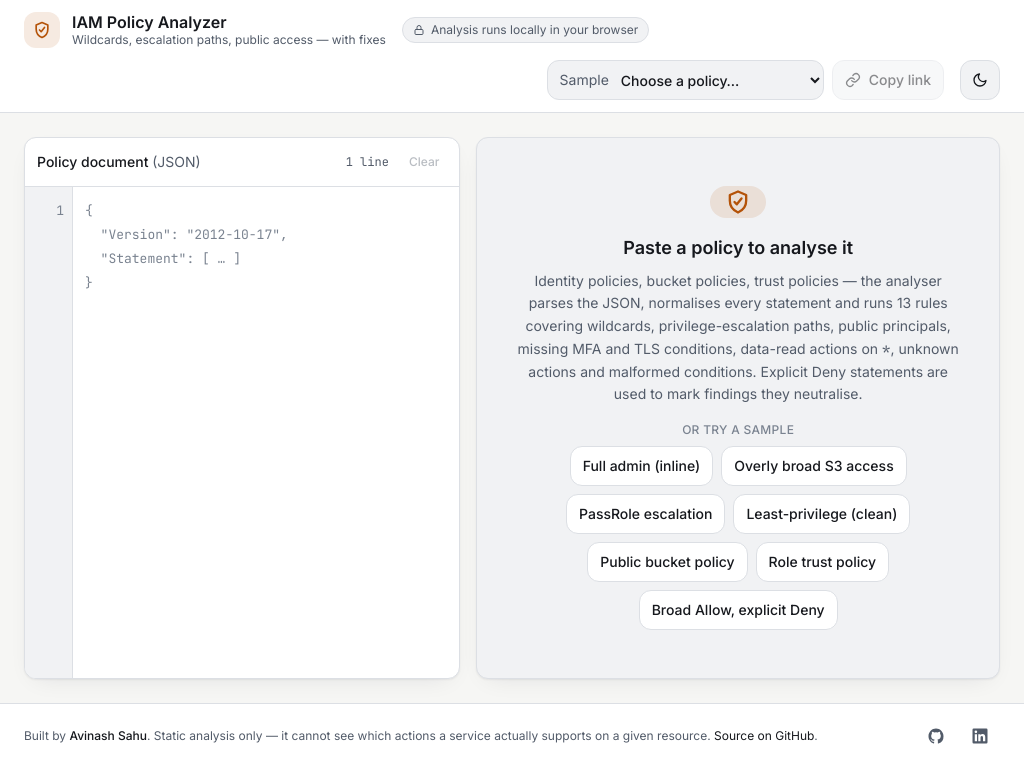
Scenario: App › loads a sample, lists findings grouped by severity and highlights the statement on click
Click the button "PassRole escalation" at (646, 514), box [566,494,725,534]
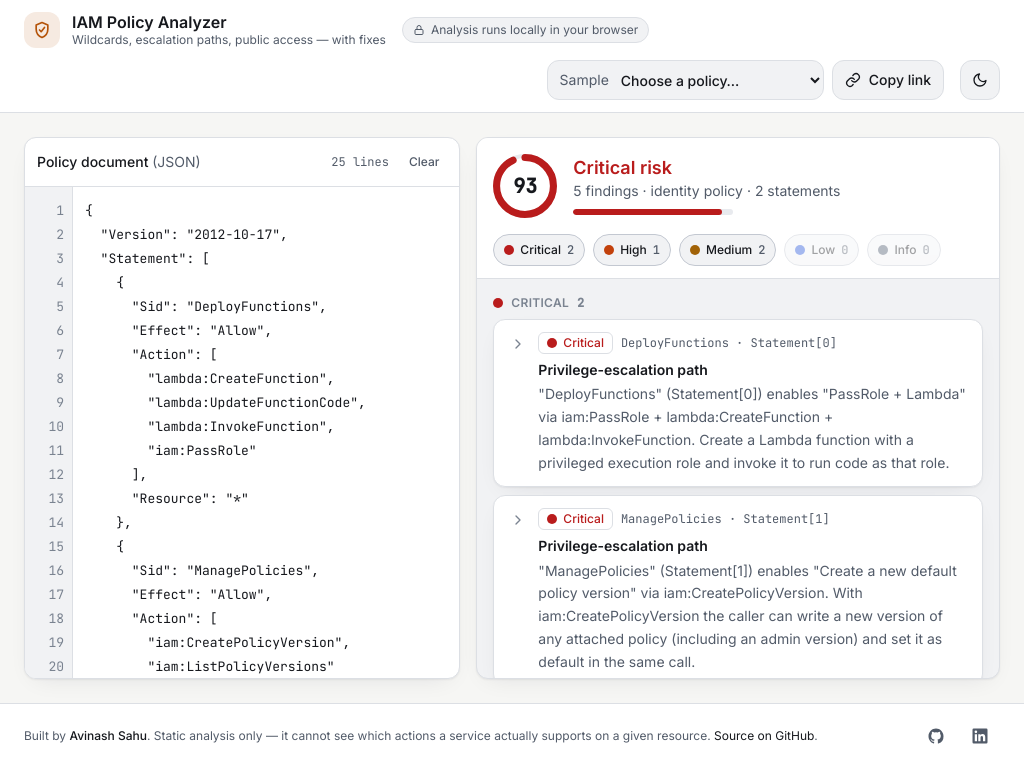
Expected: the picture "93" is shown, [493,154,557,218]
Click the button "Privilege-escalation path" at (738, 403), box [494,320,982,486]
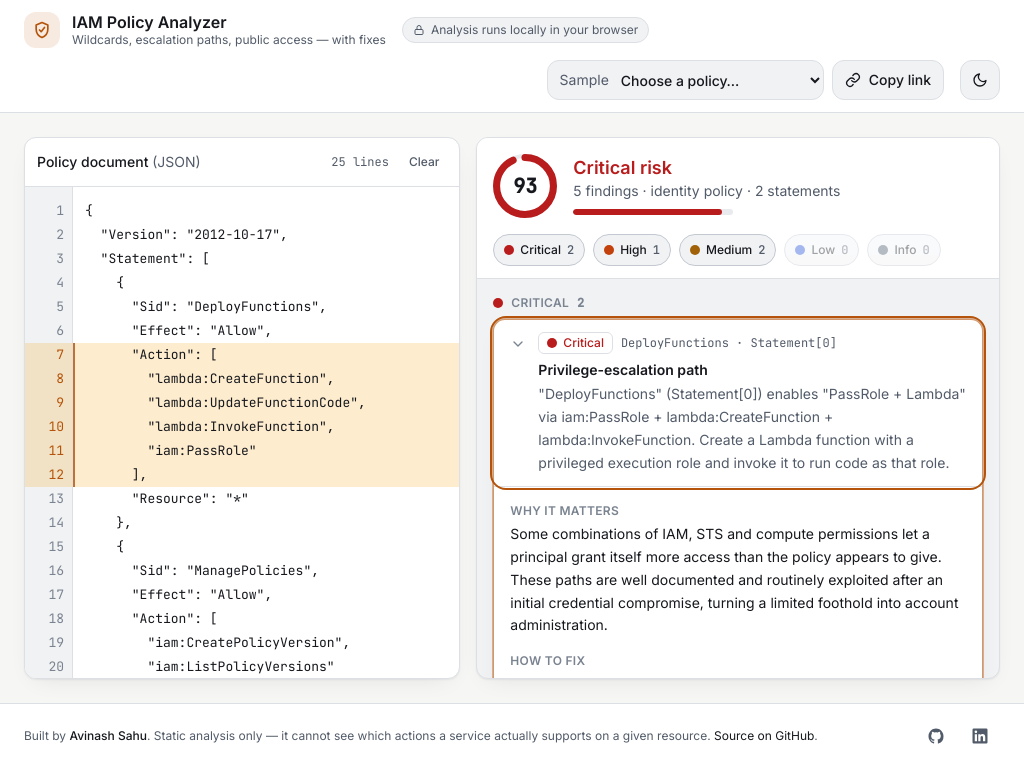
Expected: the button "Copy link" is enabled, [832,60,944,100]
Expected: the button "Privilege-escalation path" is expanded, [494,320,982,486]
Expected: the heading "Why it matters" is shown, [510,503,619,518]
